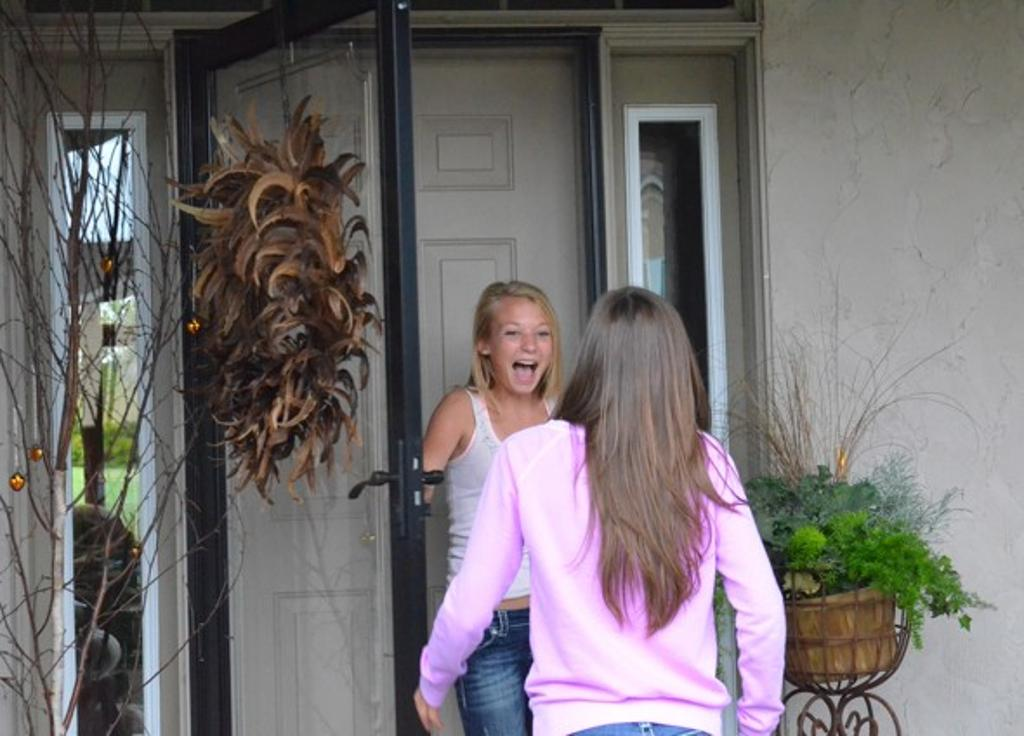face: (490, 294, 554, 394)
